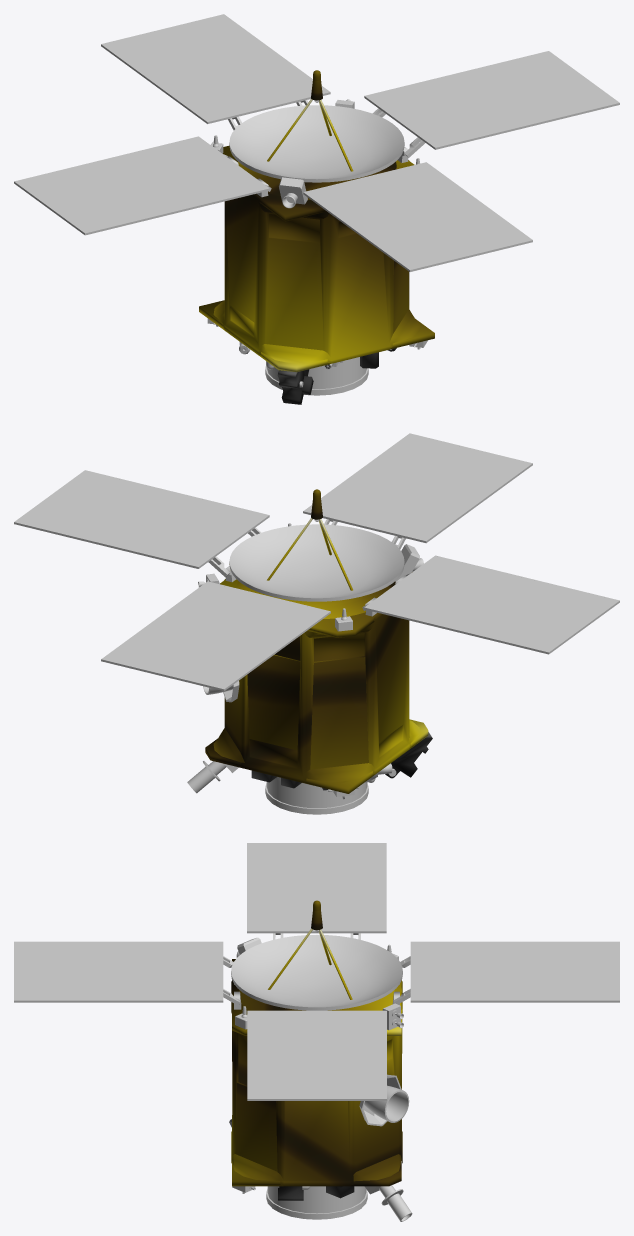
File: near_satellite.glb
3 views of the same model, one above another, from view 1: azimuth 30°, elevation 25°; view 2: azimuth 150°, elevation 25°; view 3: azimuth 270°, elevation 25° (orthographic).
Parts seen in each view (by area): view 1: shiny_panels, foil_gold, tex_01, foil_silver; view 2: shiny_panels, foil_gold, tex_01, foil_silver; view 3: shiny_panels, tex_01, foil_gold, foil_silver.
Part boxes in pixels (x1,y1,x2,y2): shiny_panels: [16, 15, 617, 269]; foil_gold: [199, 70, 434, 372]; tex_01: [14, 14, 619, 395]; foil_silver: [277, 348, 396, 404]; shiny_panels: [16, 434, 617, 688]; foil_gold: [205, 489, 428, 793]; tex_01: [14, 433, 619, 814]; foil_silver: [251, 732, 432, 790]; shiny_panels: [15, 843, 618, 1098]; tex_01: [14, 843, 619, 1221]; foil_gold: [231, 900, 402, 1186]; foil_silver: [229, 1119, 354, 1200].
Size of the model in its own units: 5.29 by 2.86 by 5.29.
Materials: 5 (2 with a texture image).
